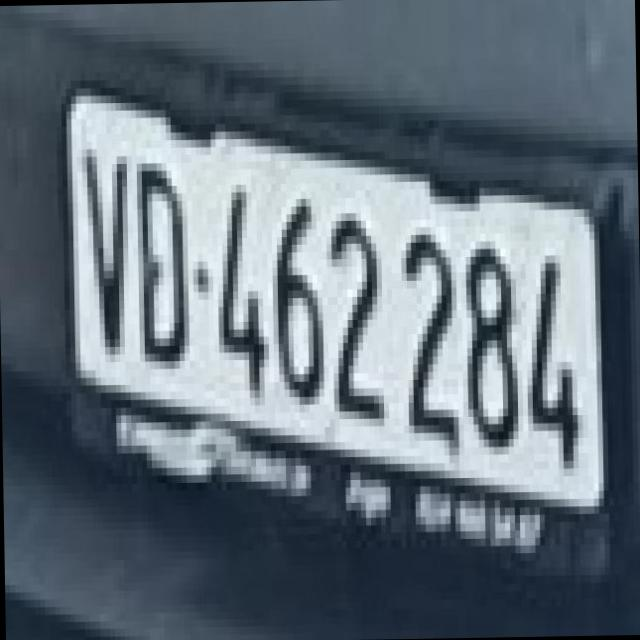2: (389, 210, 458, 440), (316, 197, 384, 419)
4: (514, 232, 583, 461), (200, 161, 264, 391)
6: (256, 175, 320, 405)
8: (449, 225, 518, 447)
D: (121, 140, 190, 362)
V: (66, 125, 130, 348)
